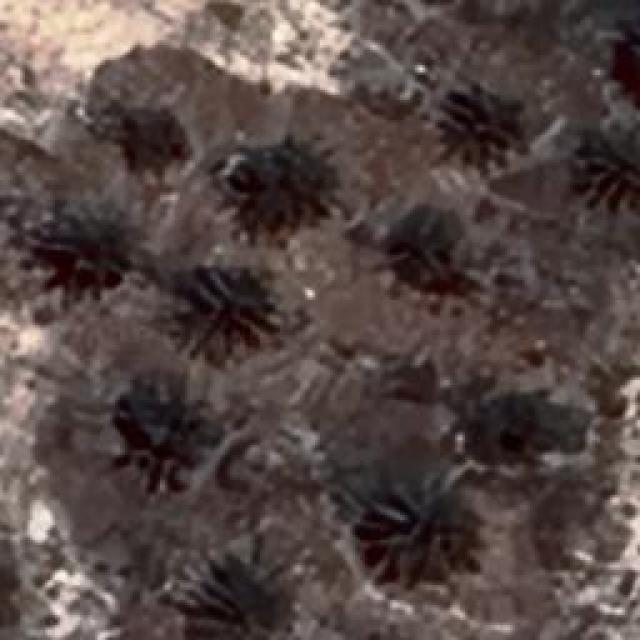PalmTree: (104, 381, 218, 489), (368, 472, 480, 580), (174, 261, 296, 359), (185, 560, 293, 638), (38, 205, 130, 290), (421, 88, 524, 162), (242, 148, 338, 226), (396, 208, 469, 294), (567, 120, 640, 205), (600, 22, 640, 105)
